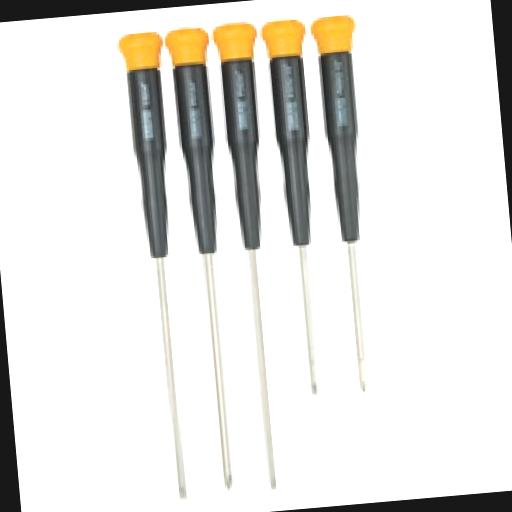screwdriver: (116, 30, 202, 502), (212, 19, 296, 492), (164, 25, 248, 489), (310, 12, 389, 394), (260, 16, 338, 396)
